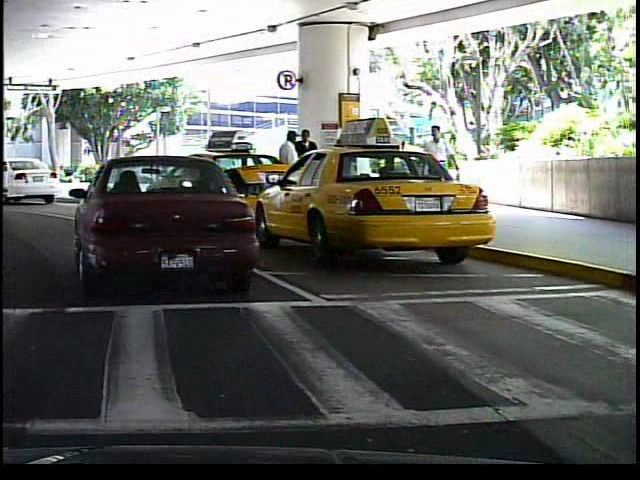person: (417, 120, 456, 214), (427, 131, 461, 206), (273, 126, 302, 212), (295, 126, 319, 206)
